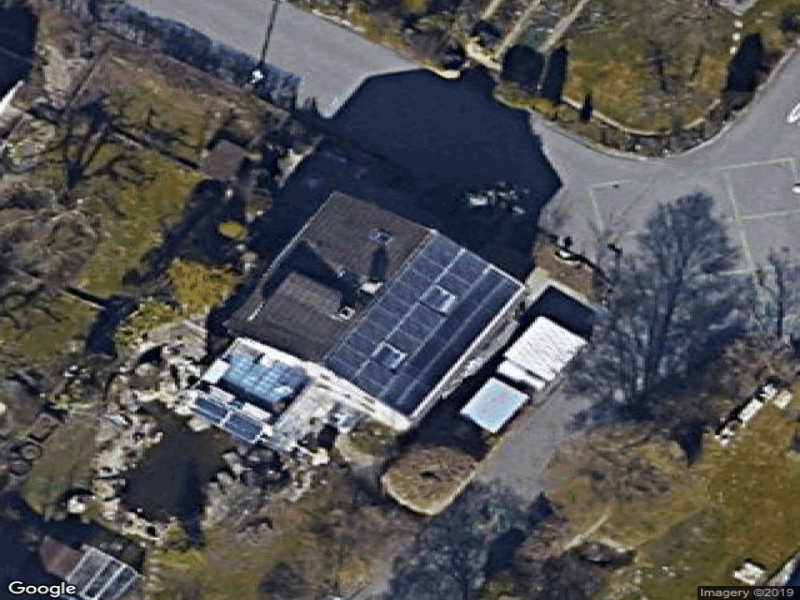pv: (330, 229, 522, 426)
